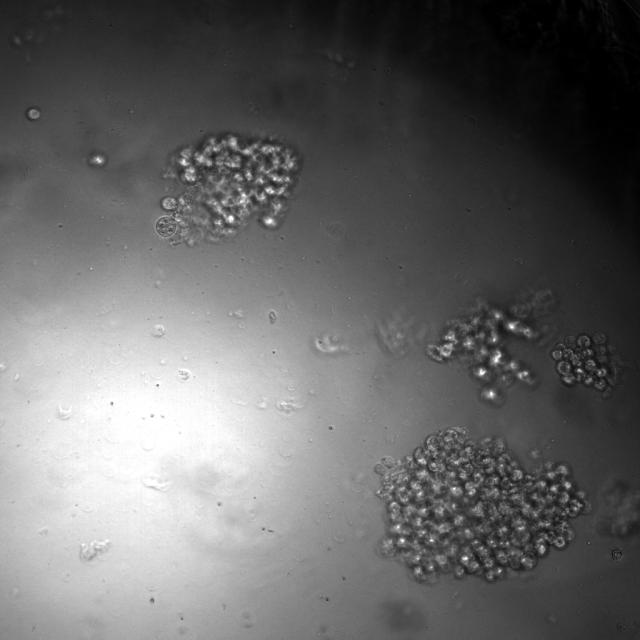organoid: (377, 428, 589, 582), (156, 132, 301, 245), (426, 290, 554, 406), (550, 332, 624, 398), (87, 150, 108, 167), (25, 105, 42, 120)
